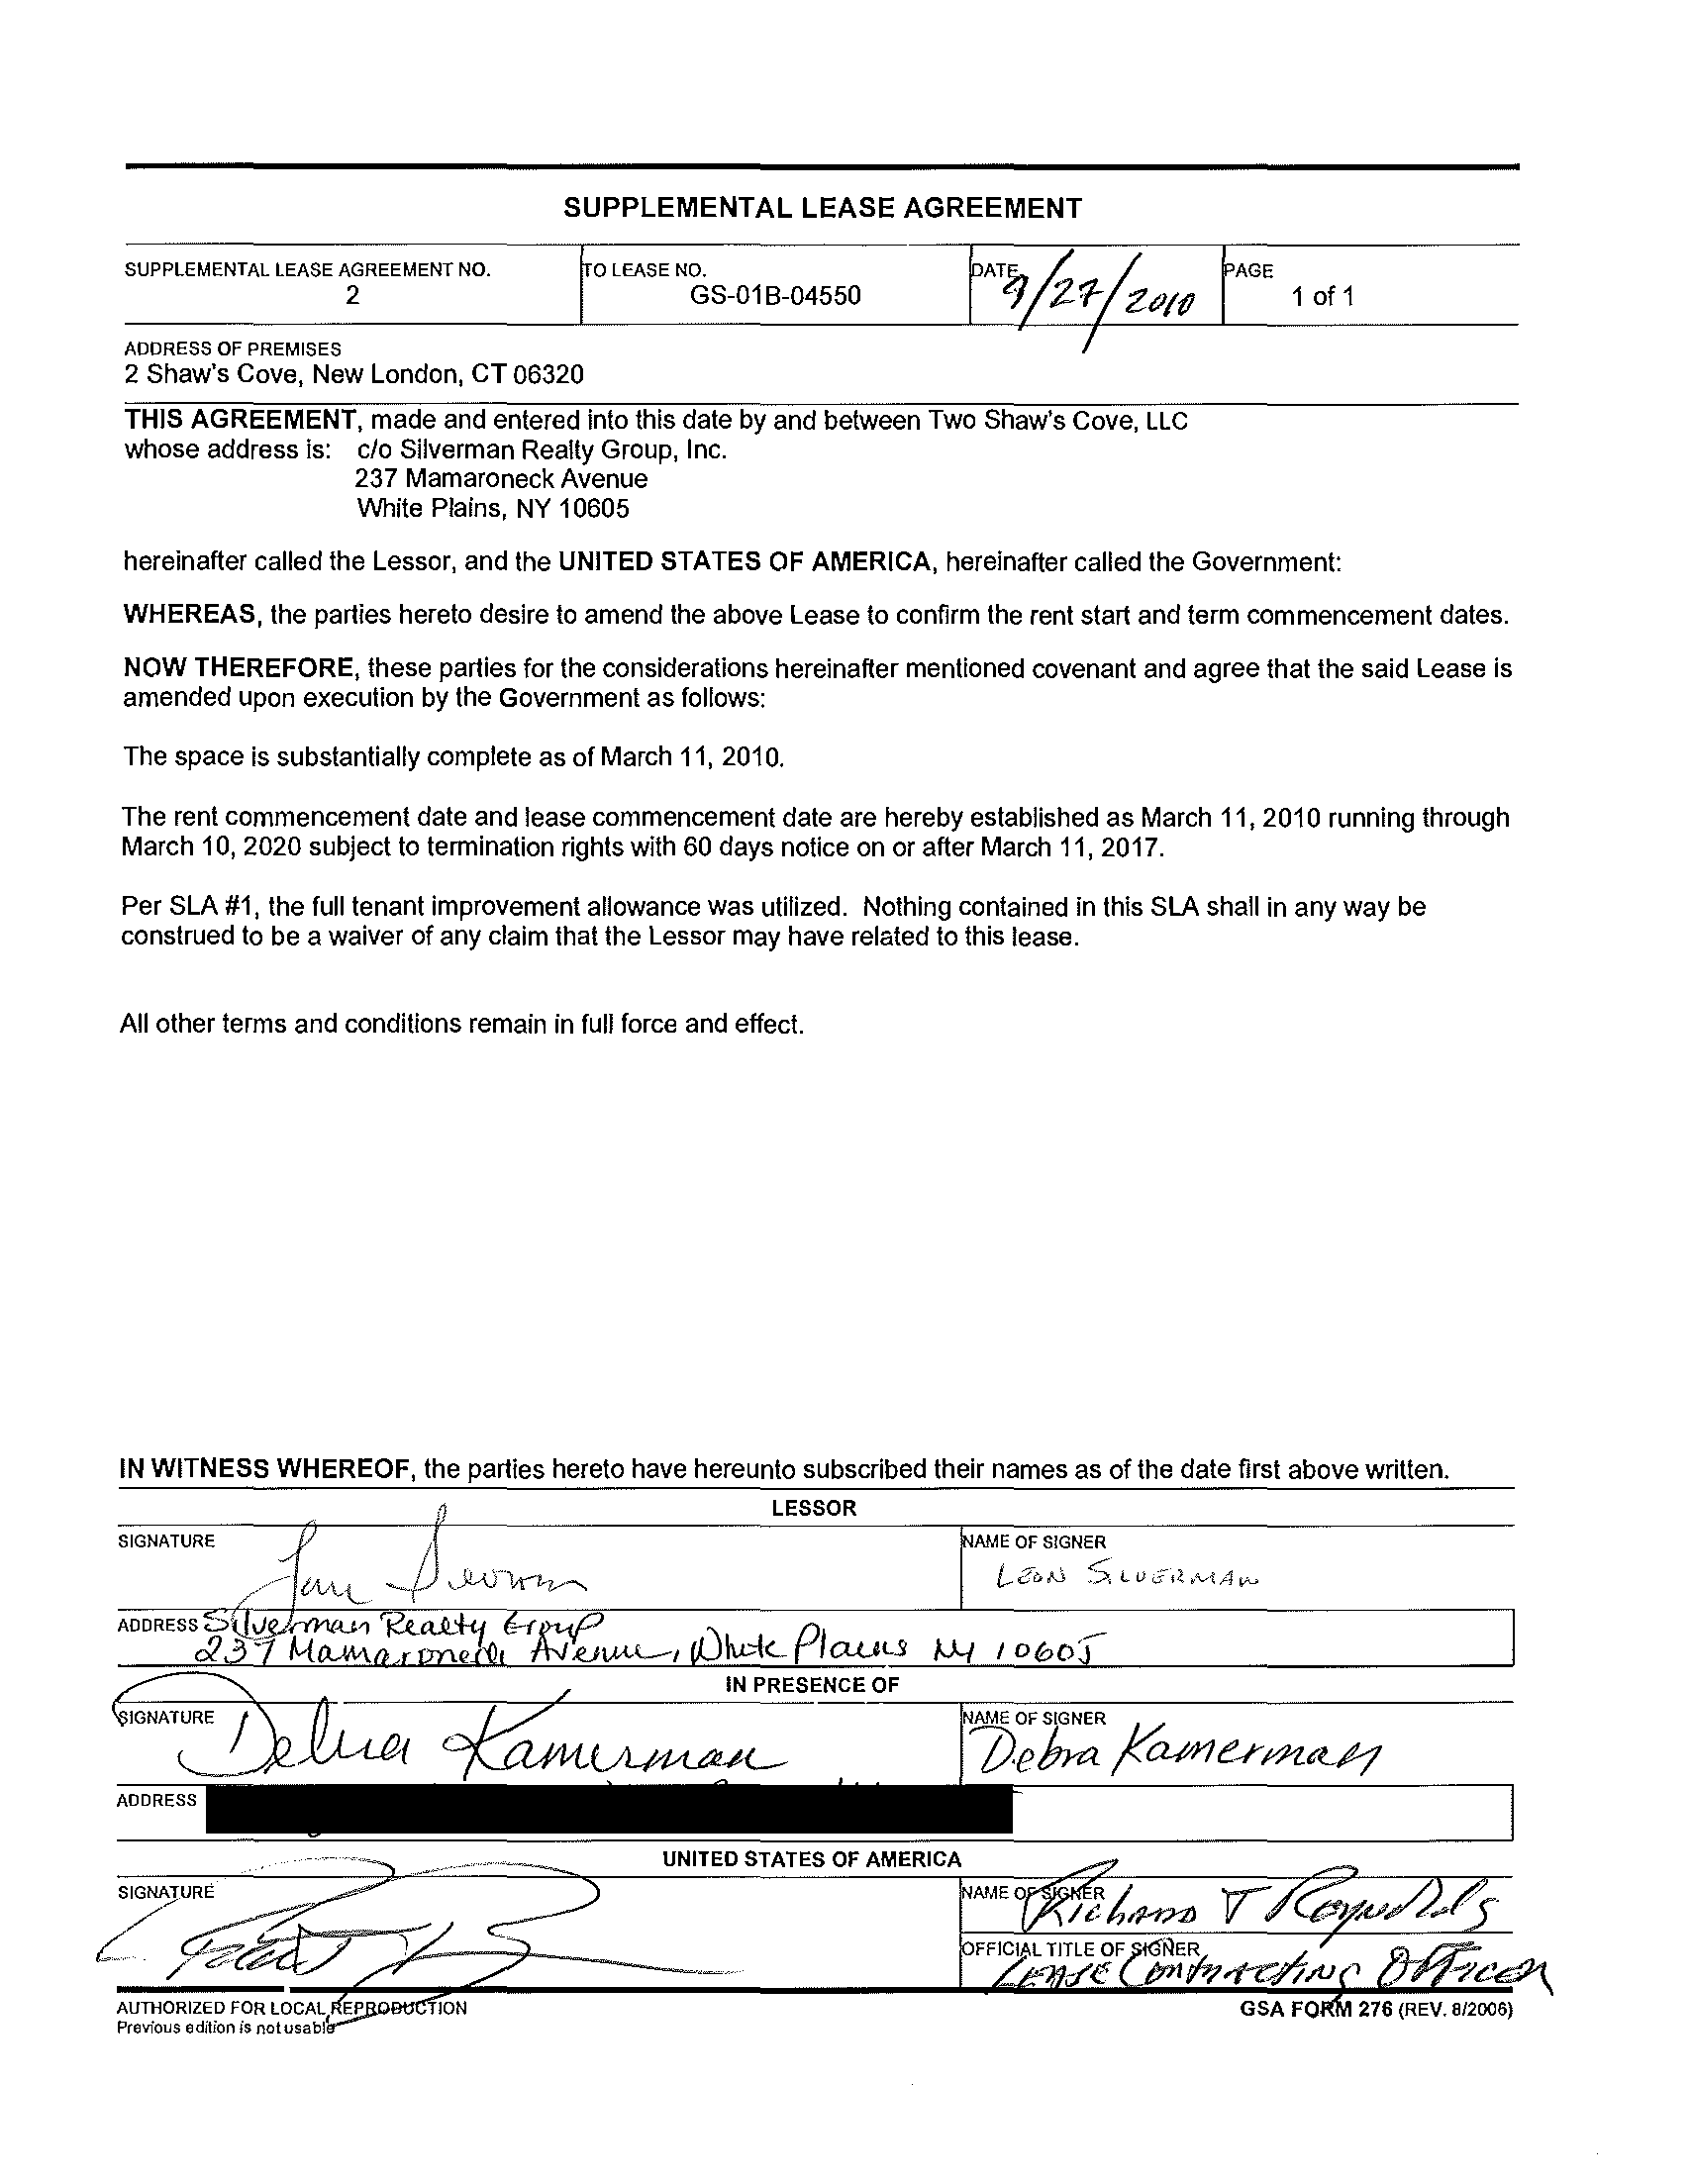handwritten: (67, 1860, 771, 1996), (80, 1666, 817, 1774), (970, 1925, 1579, 2001), (1010, 1851, 1517, 1932), (948, 1712, 1411, 1780), (250, 1523, 597, 1606), (984, 248, 1212, 326), (968, 1546, 1321, 1595)
